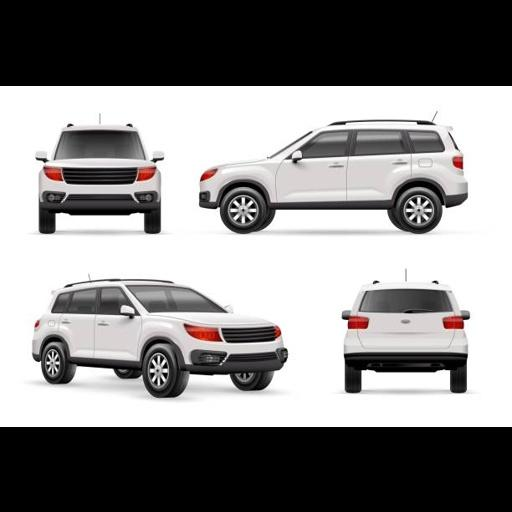suv: (199, 121, 467, 233), (32, 280, 287, 396), (342, 281, 470, 390), (35, 124, 163, 233)
